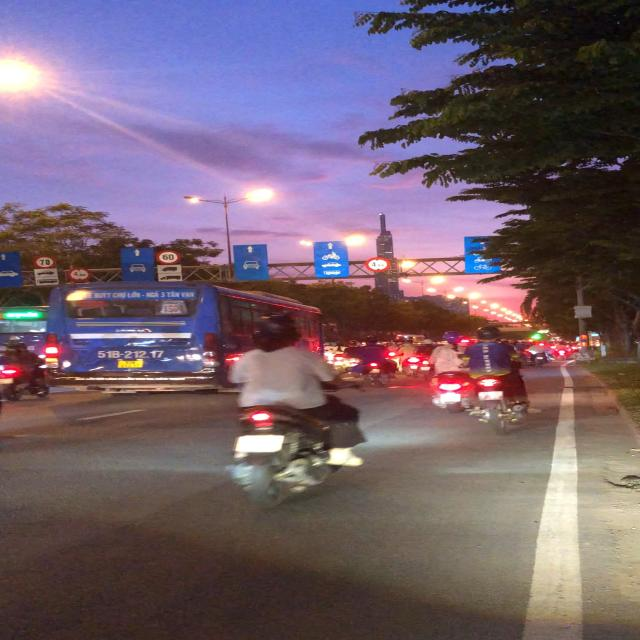Bien bao han che chieu cao: (364, 254, 392, 273), (64, 266, 95, 282)
Bien bao toc do toi da cho phep: (154, 250, 181, 265), (30, 255, 58, 269)
